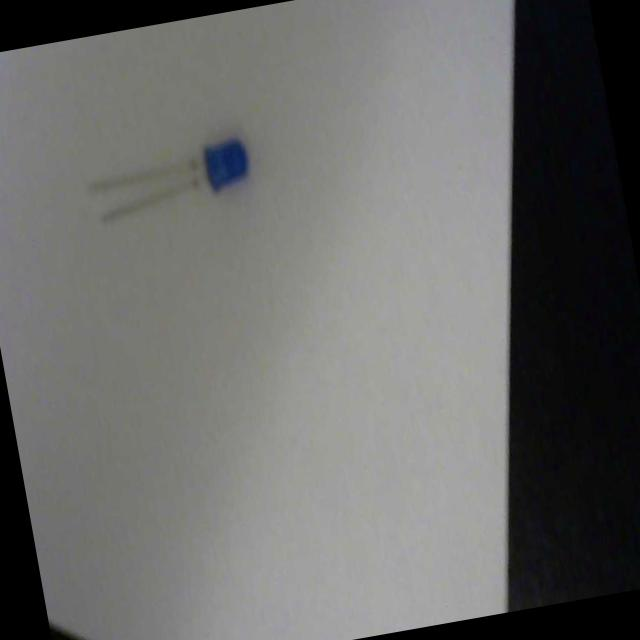blue_led: (200, 136, 252, 192)
